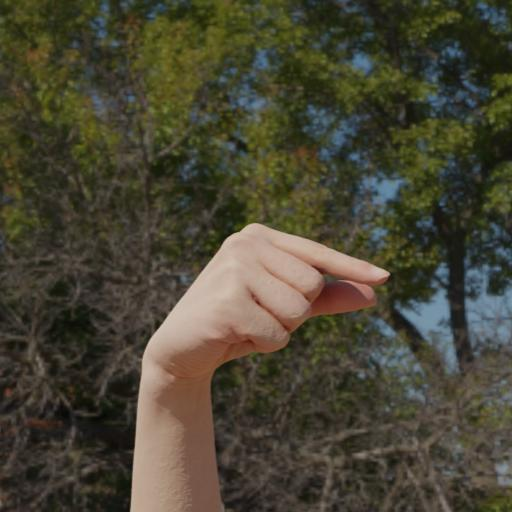G: (118, 153, 429, 481)
